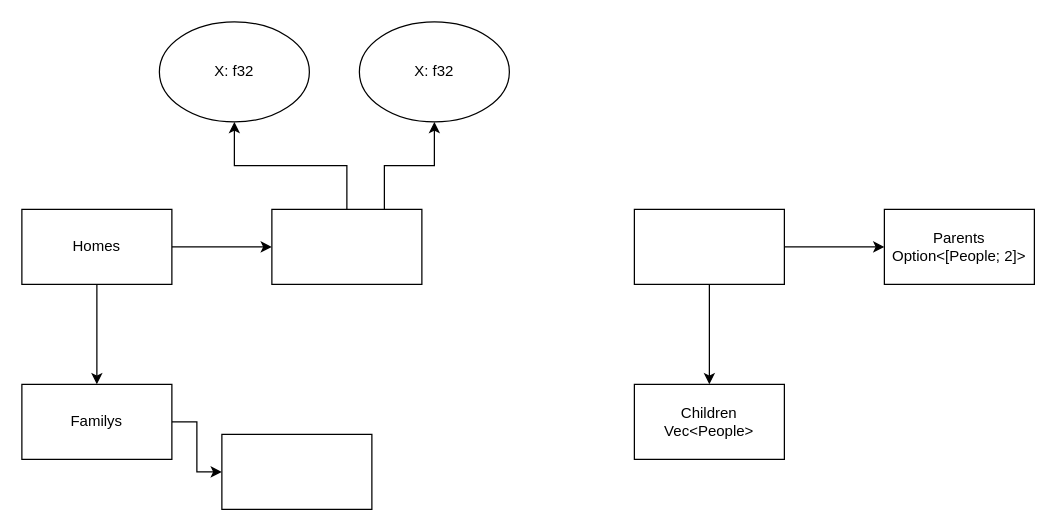
The diagram is 1056 pixels wide and 531 high, and some of its shapes have lost their labels. Each missing label, with the centre of its shape:
Family: point (708, 246)
Location: point (346, 246)
Vec<Family>: point (296, 471)
